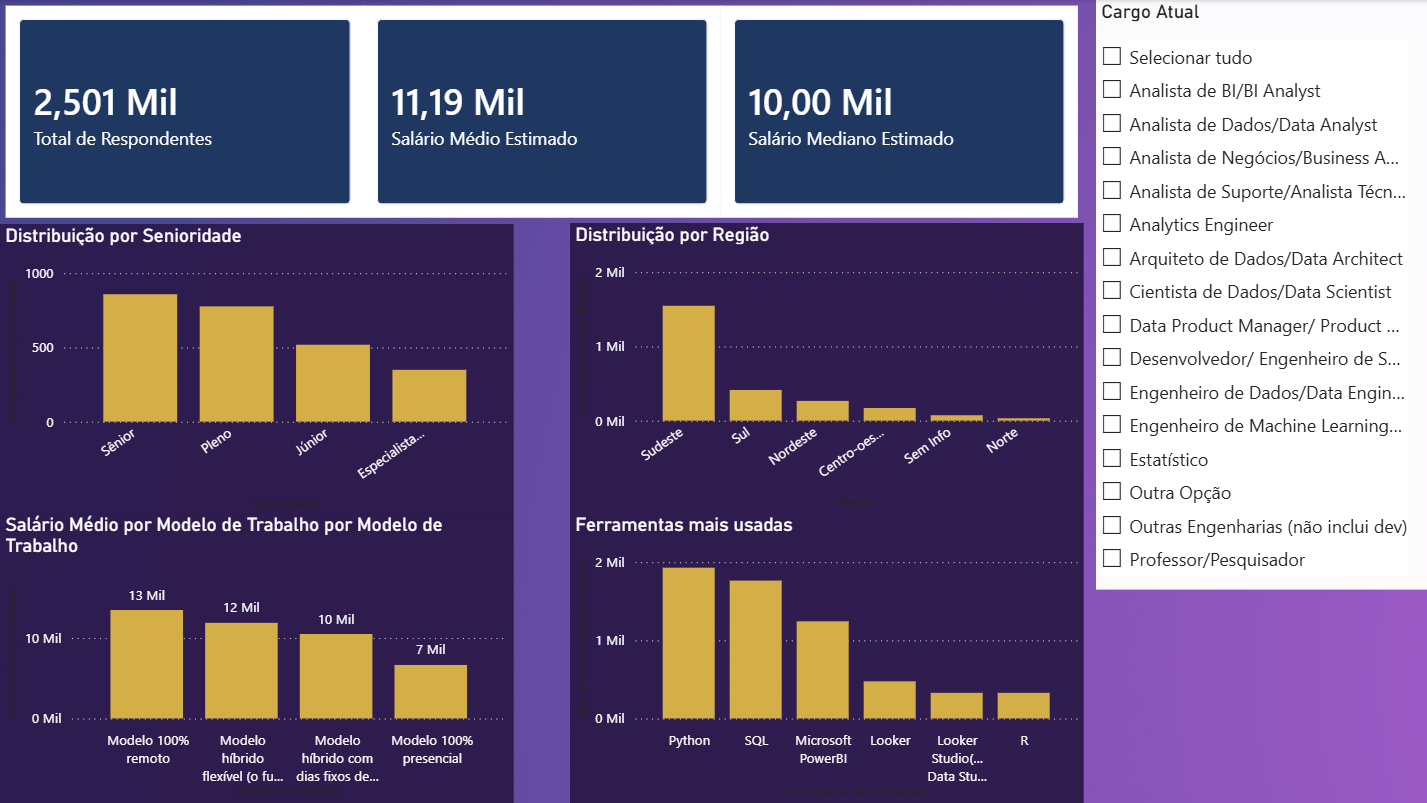

The dashboard page shown, as its layout file describes it:
{"tool":"powerbi","page":{"name":"Visão Geral","canvas":[1280,720],"ordinal":0},"visuals":[{"type":"cardVisual","fields":{"Data":["_Medidas.Total de Respondentes"]},"box":[0,0,331,200],"z":0},{"type":"cardVisual","fields":{"Data":["_Medidas.Salário Médio Estimado"]},"box":[320.3,0,330,200],"z":1000},{"type":"cardVisual","fields":{"Data":["_Medidas.Salário Mediano Estimado"]},"box":[640.6,0,330,200],"z":2000},{"type":"columnChart","title":"Distribuição por Senioridade","fields":{"Category":["Final Dataset - State of Data 2025-2026 - Kaggle.Senioridade"],"Y":["_Medidas.Respondentes por Senioridade"]},"box":[0,200.2,460,260],"z":3000},{"type":"columnChart","title":"Distribuição por Região","fields":{"Category":["Final Dataset - State of Data 2025-2026 - Kaggle.Região"],"Y":["_Medidas.Respondentes por Região"]},"box":[510.5,200,460,260],"z":4000},{"type":"columnChart","fields":{"Category":["Final Dataset - State of Data 2025-2026 - Kaggle.Modelo de Trabalho"],"Y":["_Medidas.Salário Médio por Modelo de Trabalho"]},"box":[0,459.7,460,260],"z":5000},{"type":"listSlicer","fields":{"Values":["Final Dataset - State of Data 2025-2026 - Kaggle.Cargo Atual"]},"box":[981.9,0,298.1,527.9],"z":6000},{"type":"columnChart","title":"Ferramentas mais usadas","fields":{"Category":["fato_Ferramentas_Linguagens.Ferramenta de Linguagem"],"Y":["_Medidas.Qtd Usuários da Ferramenta"]},"box":[510.5,459.8,460,260],"z":7000}]}

Visuals, with their boxes in screenshot pixels (x1, y1, x2, y2), scaled from the page's 1280x720 canvas onto the 1427x803 screenshot:
cardVisual - _Medidas.Total de Respondentes: [0, 0, 369, 223]
cardVisual - _Medidas.Salário Médio Estimado: [357, 0, 725, 223]
cardVisual - _Medidas.Salário Mediano Estimado: [714, 0, 1082, 223]
"Distribuição por Senioridade" columnChart: [0, 223, 513, 513]
"Distribuição por Região" columnChart: [569, 223, 1082, 513]
columnChart - Final Dataset - State of Data 2025-2026 - Kaggle.Modelo de Trabalho x _Medidas.Salário Médio por Modelo de Trabalho: [0, 513, 513, 802]
listSlicer - Final Dataset - State of Data 2025-2026 - Kaggle.Cargo Atual: [1095, 0, 1426, 589]
"Ferramentas mais usadas" columnChart: [569, 513, 1082, 802]
